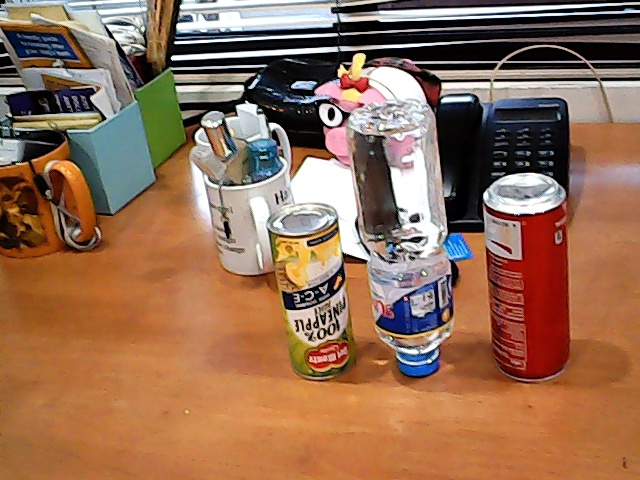Cola: (475, 169, 585, 383)
Pine Juice: (259, 199, 359, 383)
Summit Water: (359, 90, 466, 376)
